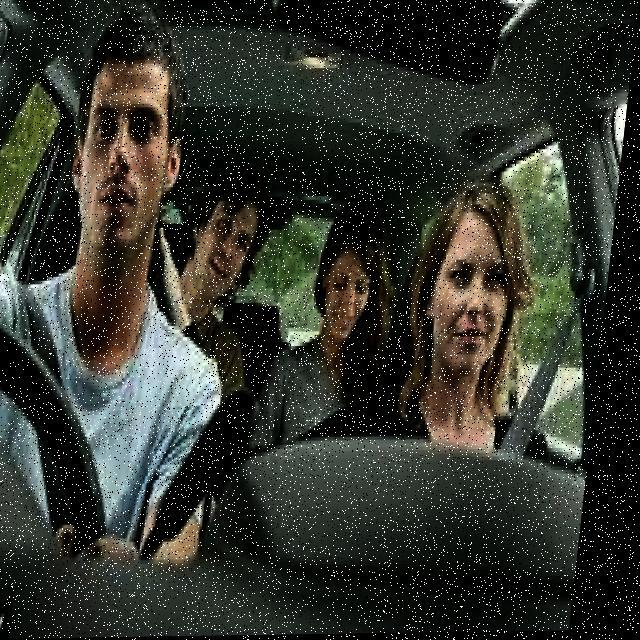seatbelt: (14, 262, 138, 542), (487, 303, 608, 472)
